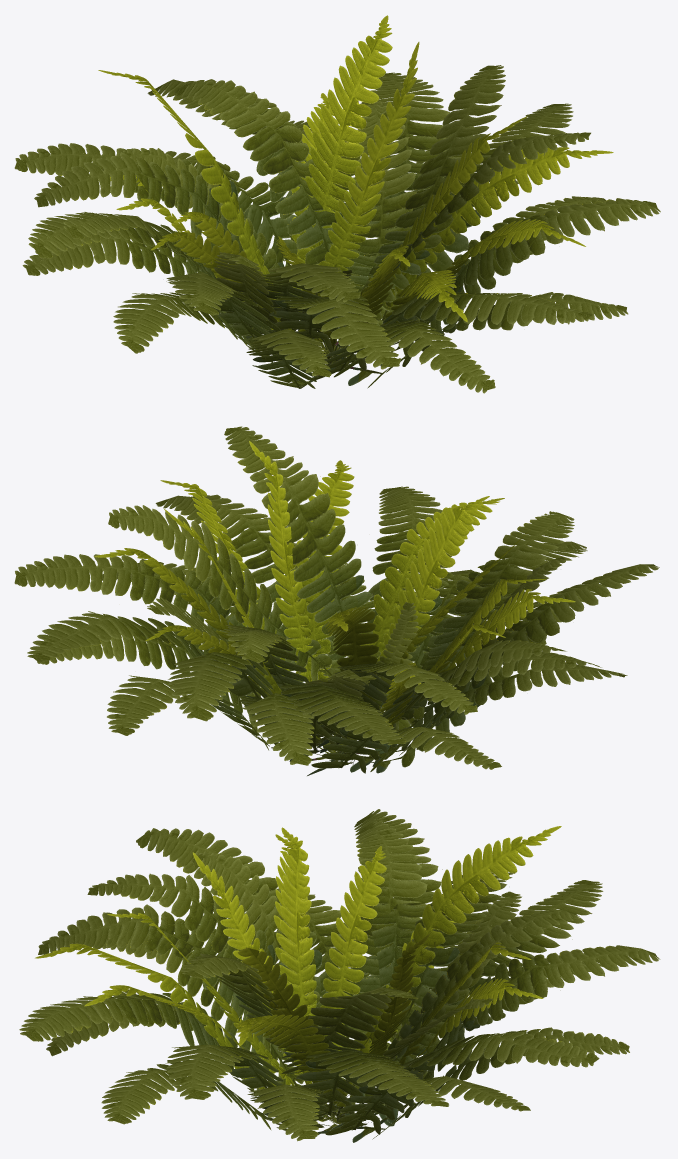
File: PNW Plant_Sword Fern_Large_1k.glb
The picture shows the model from 3 angles, top to bottom: view 1: azimuth 30°, elevation 25°; view 2: azimuth 150°, elevation 25°; view 3: azimuth 270°, elevation 25°; orthographic projection. The views are drawn at different scales.
Parts seen in each view (by area): view 1: Plant_Sword Fern_Large_1k; view 2: Plant_Sword Fern_Large_1k; view 3: Plant_Sword Fern_Large_1k.
Boxes of the visible parts, x1,y1,x2,y2 form: Plant_Sword Fern_Large_1k: (14, 15, 660, 393); Plant_Sword Fern_Large_1k: (14, 426, 659, 775); Plant_Sword Fern_Large_1k: (19, 809, 660, 1142).
Size of the model in its own units: 2.97 by 1.31 by 2.93.
Materials: 1 (1 with a texture image).
